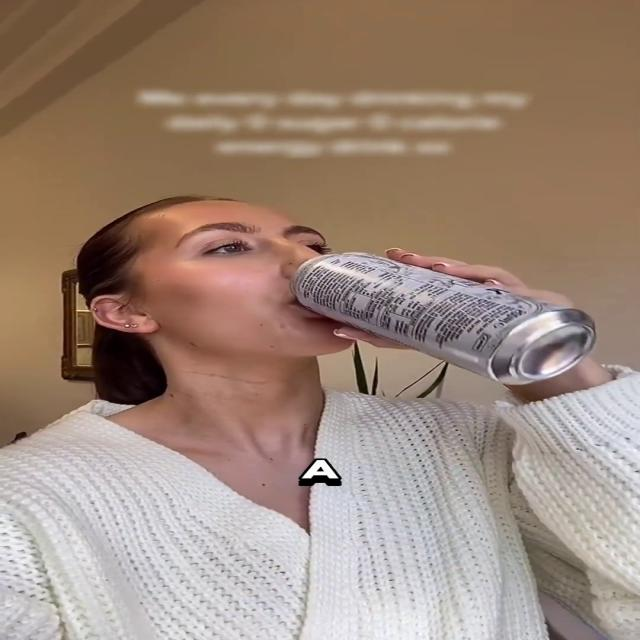Can: (289, 252, 600, 385)
Hand: (338, 241, 607, 370)
Mouth: (271, 283, 373, 314)
